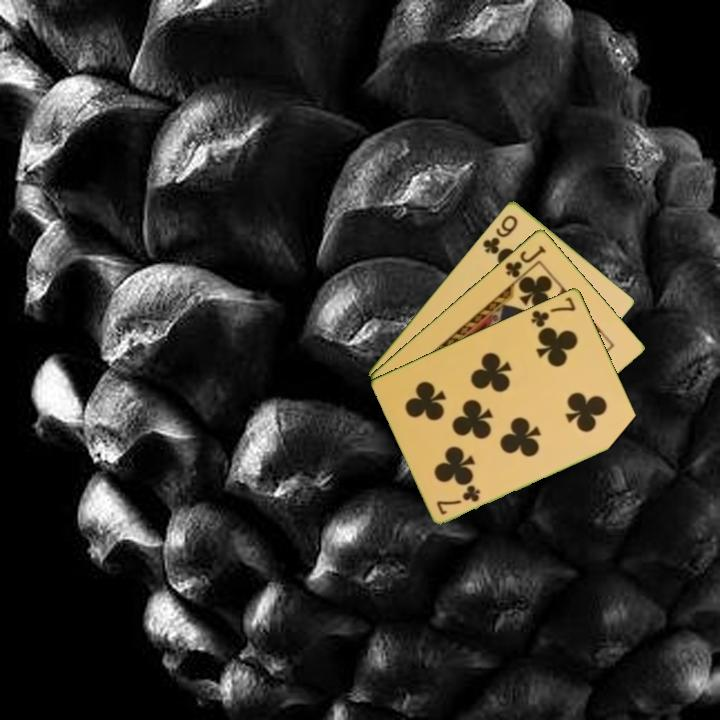7c: (527, 293, 579, 330), (433, 481, 484, 517)
9c: (479, 211, 521, 257)
Jc: (501, 241, 549, 280)
